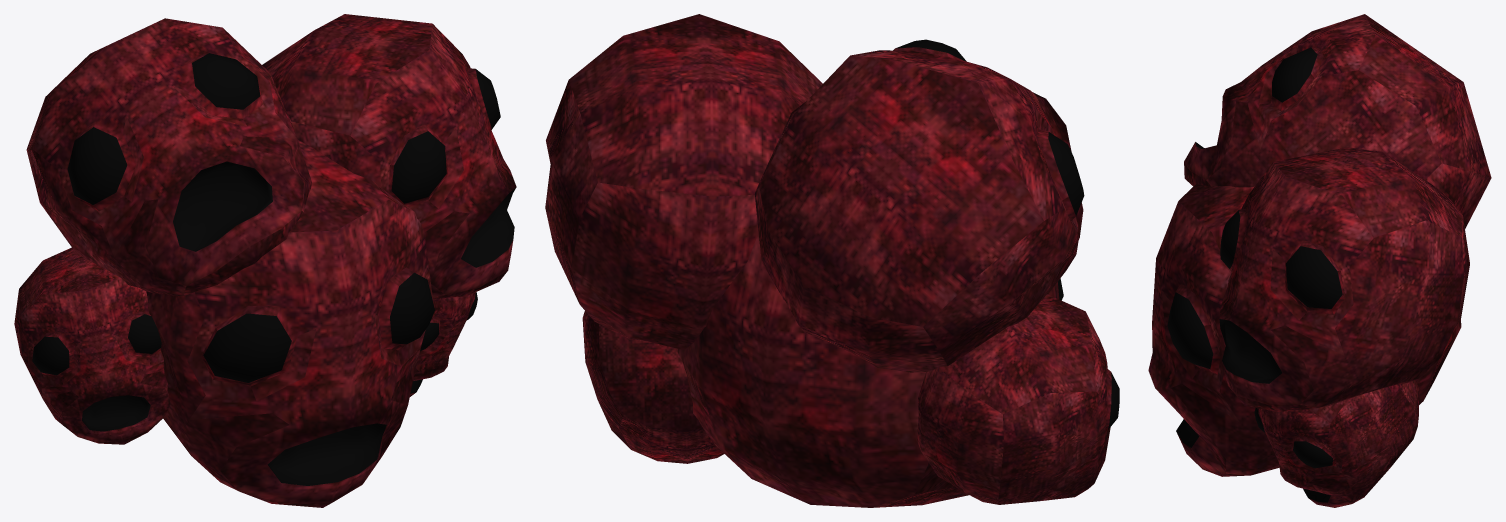
The model's file is Teratoma.glb.
3 renders of one model, left to right at view 1: azimuth 30°, elevation 25°; view 2: azimuth 150°, elevation 25°; view 3: azimuth 270°, elevation 25°, orthographic. The views are drawn at different scales.
Visible parts, largest first — view 1: Head, Head_002, Head_001, Head_003, Head_004; view 2: Head_002, Head_001, Head, Head_003, Head_004; view 3: Head_001, Head_002, Head, Head_004.
Boxes of the visible parts, left/top/right/bottom form: Head: left=146, top=140, right=434, bottom=507; Head_002: left=26, top=18, right=311, bottom=295; Head_001: left=262, top=14, right=516, bottom=298; Head_003: left=14, top=247, right=170, bottom=444; Head_004: left=410, top=292, right=477, bottom=396; Head_002: left=755, top=39, right=1084, bottom=372; Head_001: left=545, top=14, right=822, bottom=350; Head: left=677, top=233, right=1063, bottom=507; Head_003: left=917, top=294, right=1119, bottom=504; Head_004: left=582, top=311, right=724, bottom=463; Head_001: left=1219, top=147, right=1469, bottom=411; Head_002: left=1184, top=14, right=1491, bottom=228; Head: left=1148, top=184, right=1461, bottom=476; Head_004: left=1254, top=380, right=1418, bottom=507.
Size of the model in its own units: 3.63 by 3.27 by 2.54.
2 materials, 1 textured.
